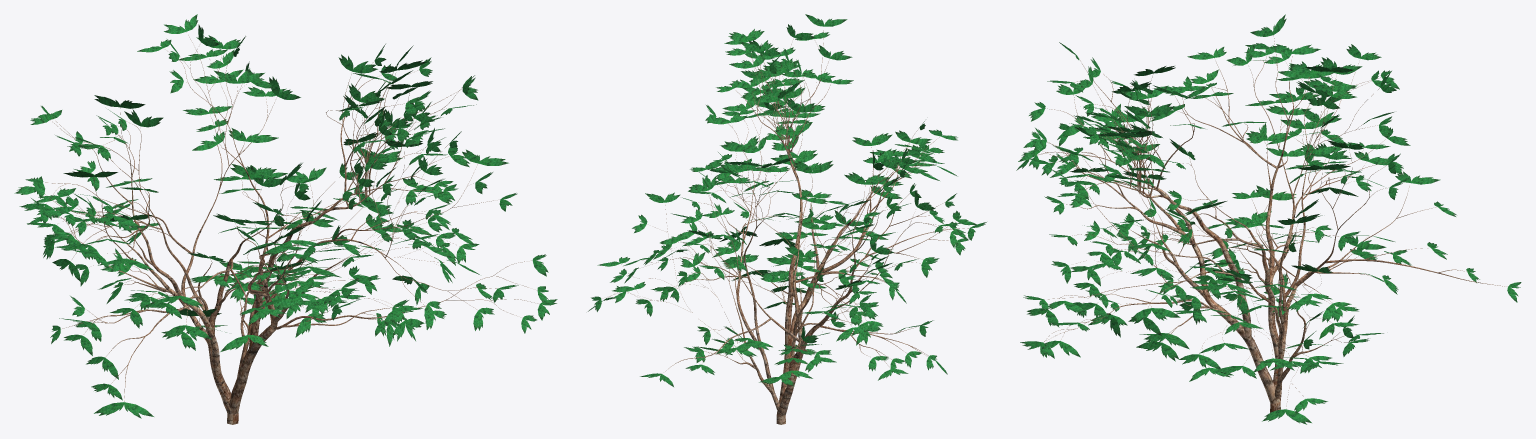
Rendered from tree on grass.glb.
3 renders of one model, left to right at view 1: azimuth 30°, elevation 25°; view 2: azimuth 150°, elevation 25°; view 3: azimuth 270°, elevation 25°, orthographic. The views are drawn at different scales.
Parts seen in each view (by area): view 1: leaves, tree; view 2: leaves, tree; view 3: leaves, tree.
Part boxes in pixels (x1,y1,x2,y2): leaves: (14,14,557,418); tree: (45,35,537,424); leaves: (588,14,986,386); tree: (606,30,968,424); leaves: (1016,14,1521,424); tree: (1037,35,1504,412).
Size of what is drawn, in the model's own units: 11.87 by 10.59 by 12.5.
2 materials, 2 textured.
